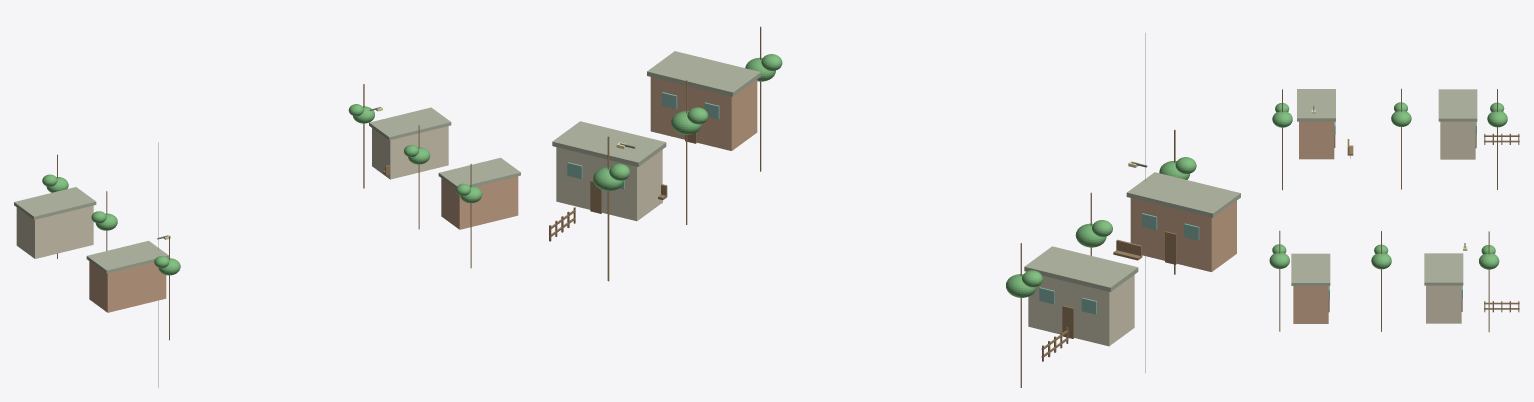
Rendered from yun_street_block_parque_v1.glb.
3 views of the same model, side by side, from view 1: azimuth 30°, elevation 25°; view 2: azimuth 150°, elevation 25°; view 3: azimuth 270°, elevation 25° (orthographic). The views are drawn at different scales.
Visible parts, largest first — view 1: parque_house_left_a__body, parque_house_left_b__body, parque_house_right_b__body, parque_house_right_a__body, parque_house_right_a__roof, parque_house_left_a__roof, parque_house_left_b__roof, parque_house_right_b__roof; view 2: parque_house_left_b__body, parque_house_left_a__body, parque_house_right_b__body, parque_house_right_a__body, parque_house_left_b__roof, parque_house_right_b__roof, parque_house_left_a__roof, parque_house_right_a__roof; view 3: parque_house_left_a__body, parque_house_right_a__body, parque_house_left_b__body, parque_house_right_b__body, parque_house_left_a__roof, parque_house_right_a__roof, parque_house_right_b__roof, parque_house_left_b__roof, parque_tree_left_a__crown_a, parque_tree_right_b__crown_a, parque_tree_left_c__crown_a, parque_tree_right_a__crown_a (+2 smaller).
Boxes of the visible parts, x1,y1,x2,y2 form: parque_house_left_a__body: [16, 205, 93, 258]; parque_house_left_b__body: [89, 261, 166, 312]; parque_house_right_b__body: [441, 176, 518, 229]; parque_house_right_a__body: [372, 126, 448, 179]; parque_house_right_a__roof: [369, 107, 451, 140]; parque_house_left_a__roof: [14, 187, 96, 219]; parque_house_left_b__roof: [86, 240, 168, 273]; parque_house_right_b__roof: [438, 157, 520, 188]; parque_house_left_b__body: [1130, 198, 1236, 271]; parque_house_left_a__body: [1028, 275, 1134, 346]; parque_house_right_b__body: [650, 77, 757, 150]; parque_house_right_a__body: [556, 147, 662, 221]; parque_house_left_b__roof: [1126, 172, 1240, 217]; parque_house_right_b__roof: [647, 51, 760, 96]; parque_house_left_a__roof: [1024, 246, 1138, 291]; parque_house_right_a__roof: [552, 121, 666, 166]; parque_house_left_a__body: [1440, 121, 1475, 159]; parque_house_right_a__body: [1426, 285, 1461, 323]; parque_house_left_b__body: [1299, 121, 1334, 159]; parque_house_right_b__body: [1293, 286, 1328, 323]; parque_house_left_a__roof: [1438, 89, 1477, 121]; parque_house_right_a__roof: [1424, 253, 1463, 285]; parque_house_right_b__roof: [1291, 253, 1330, 285]; parque_house_left_b__roof: [1297, 89, 1335, 121]; parque_tree_left_a__crown_a: [1487, 111, 1507, 127]; parque_tree_right_b__crown_a: [1371, 253, 1391, 269]; parque_tree_left_c__crown_a: [1272, 111, 1292, 127]; parque_tree_right_a__crown_a: [1479, 253, 1499, 269].
Bounding box in the file's own units: 32.4 × 18.49 × 17.67.
